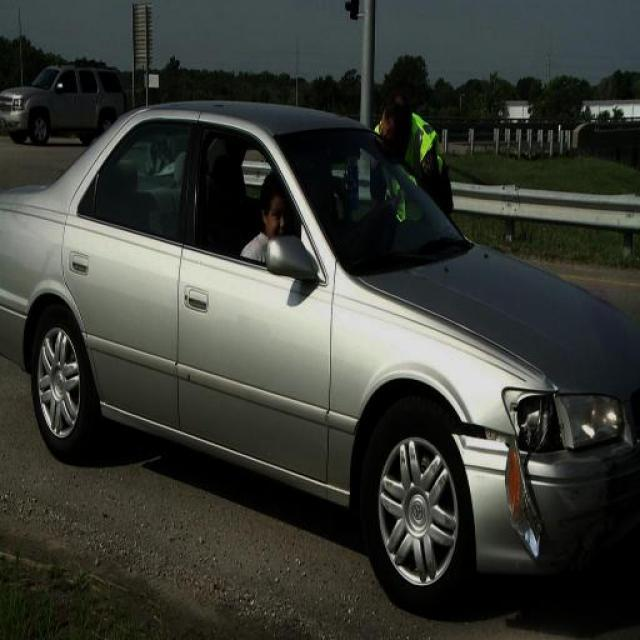car damage: (498, 445, 554, 565), (558, 505, 639, 576), (516, 391, 565, 452), (605, 445, 640, 510), (454, 419, 518, 453)
